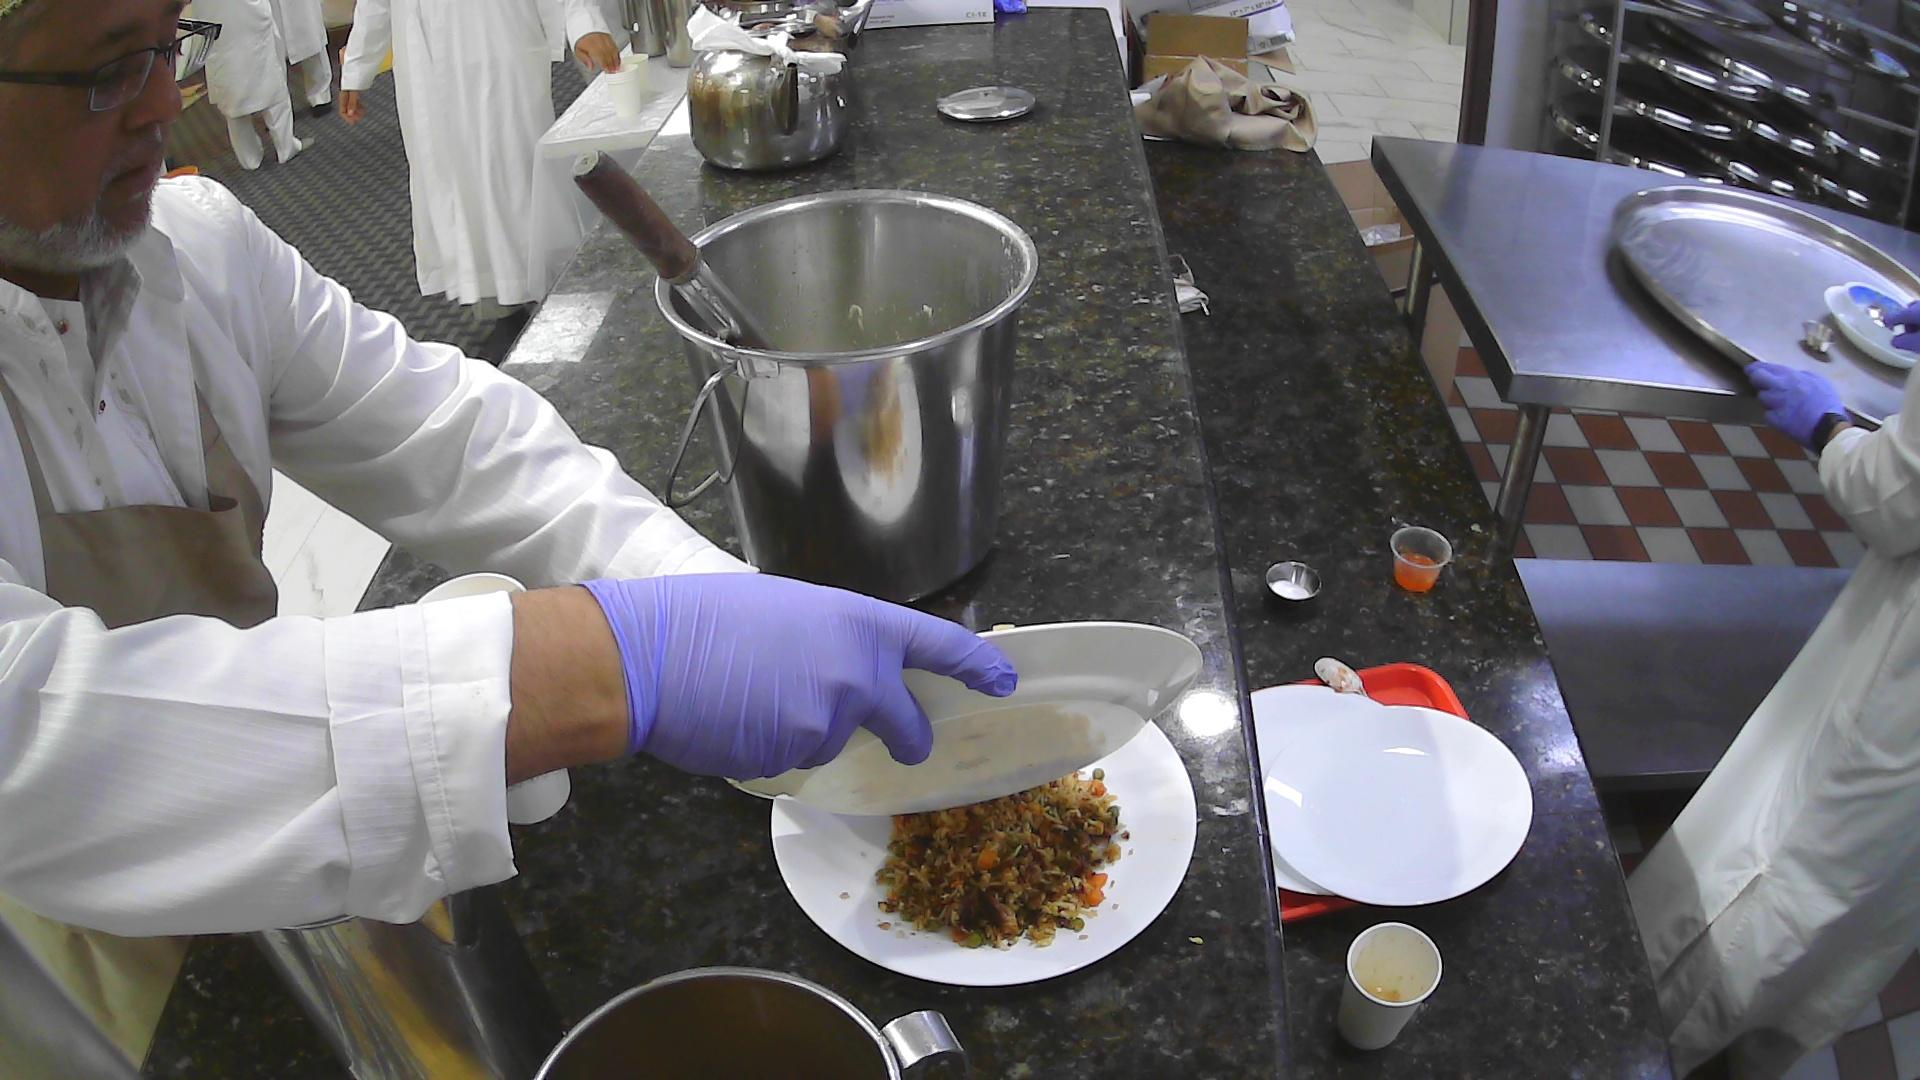thaal: (1604, 185, 1920, 439)
